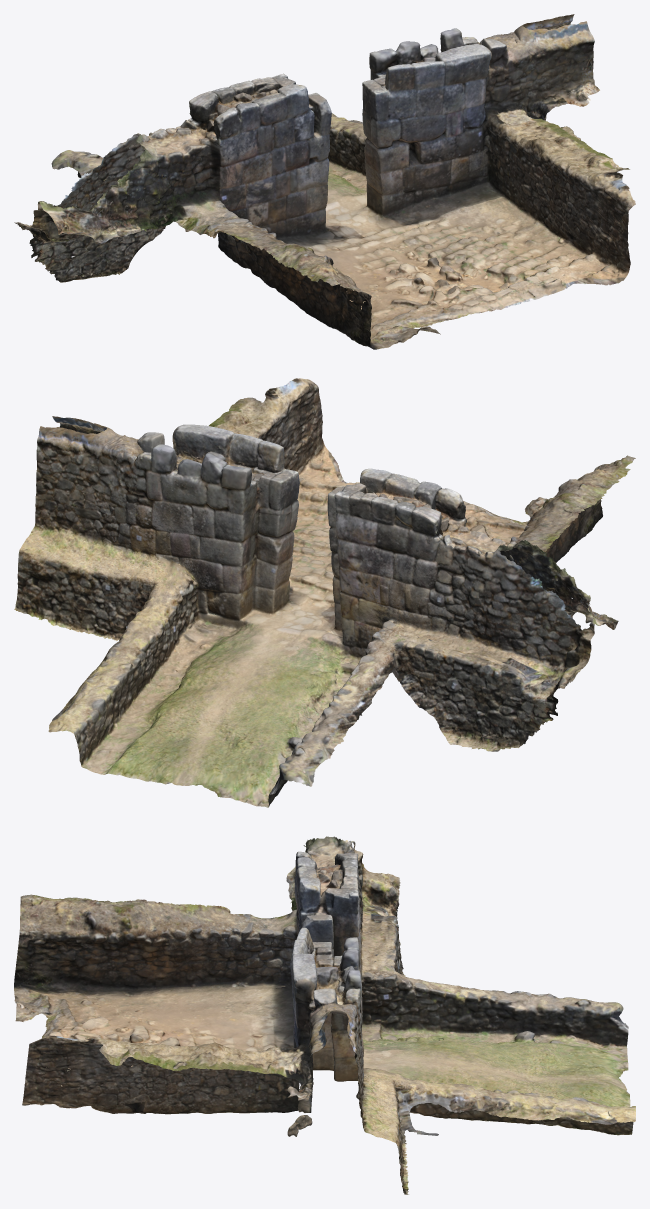
File: puerta_monumental_inca.glb
3 views of the same model, one above another, from view 1: azimuth 30°, elevation 25°; view 2: azimuth 150°, elevation 25°; view 3: azimuth 270°, elevation 25° (orthographic). The views are drawn at different scales.
Parts seen in each view (by area): view 1: Object_4, Object_3, Object_2, Object_5; view 2: Object_2, Object_3, Object_5, Object_4; view 3: Object_4, Object_3, Object_2, Object_5.
Part boxes in pixels (bbox=[...]): Object_4: bbox=[49, 110, 635, 348]; Object_3: bbox=[14, 14, 627, 310]; Object_2: bbox=[34, 14, 635, 349]; Object_5: bbox=[35, 150, 163, 282]; Object_2: bbox=[14, 378, 635, 806]; Object_3: bbox=[18, 379, 603, 785]; Object_5: bbox=[189, 565, 586, 807]; Object_4: bbox=[14, 378, 635, 785]; Object_4: bbox=[14, 870, 634, 1194]; Object_3: bbox=[36, 845, 628, 1192]; Object_2: bbox=[14, 836, 635, 1194]; Object_5: bbox=[360, 862, 628, 1082].
Bounding box in the file's own units: 22.66 × 7.96 × 22.76.
1 material, 1 textured.
